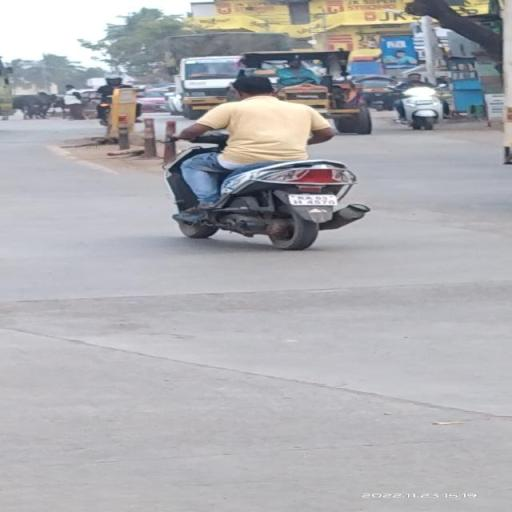bike: (157, 74, 373, 251)
numberplate: (288, 193, 336, 206)
withouthelmet: (235, 77, 272, 96)
